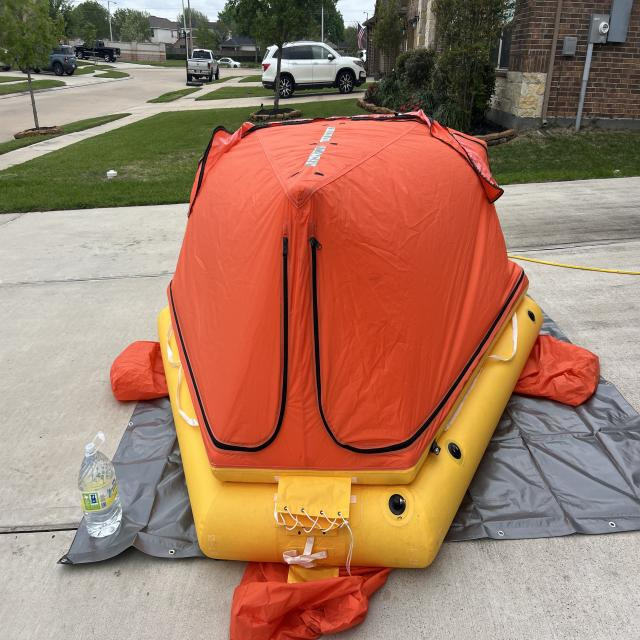Multi-person_life_raft: (110, 105, 600, 638)
